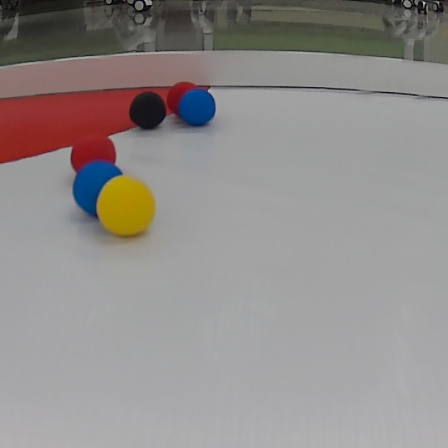black: (127, 91, 168, 135)
blue: (73, 161, 120, 217), (176, 91, 225, 133)
red: (71, 134, 125, 173), (164, 75, 199, 110)
red_base: (1, 85, 209, 162)
yellow: (95, 173, 156, 237)
